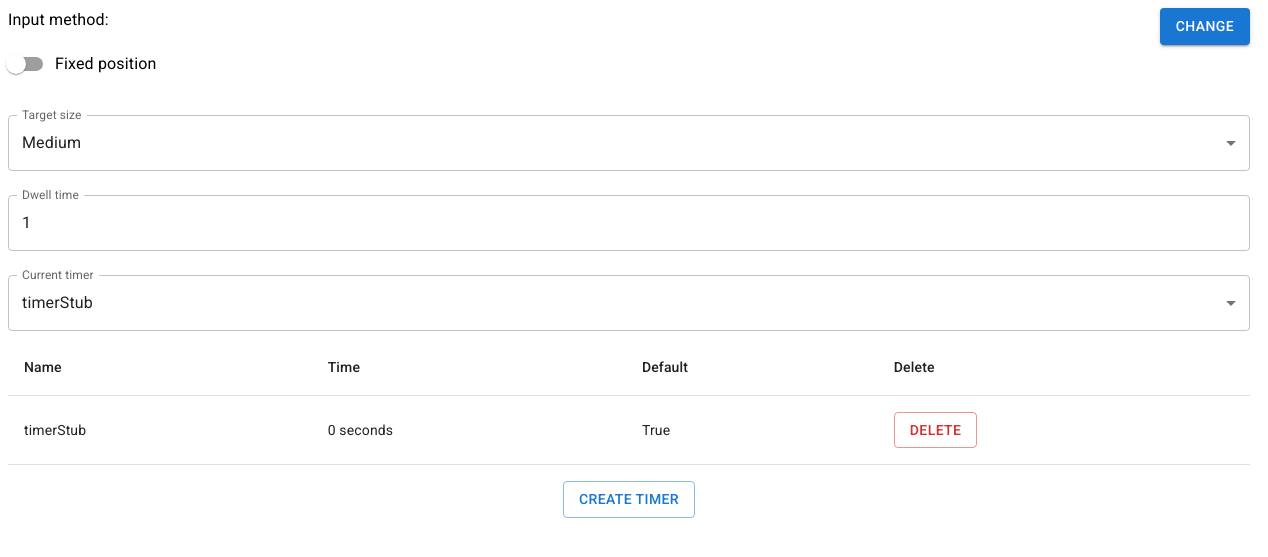
Scenario: <InputConfig /> › should render error for dwell time input
Replace the text in the number field labelled "Dwell time" with "-2" at [629, 222], box [8,194,1250,250]
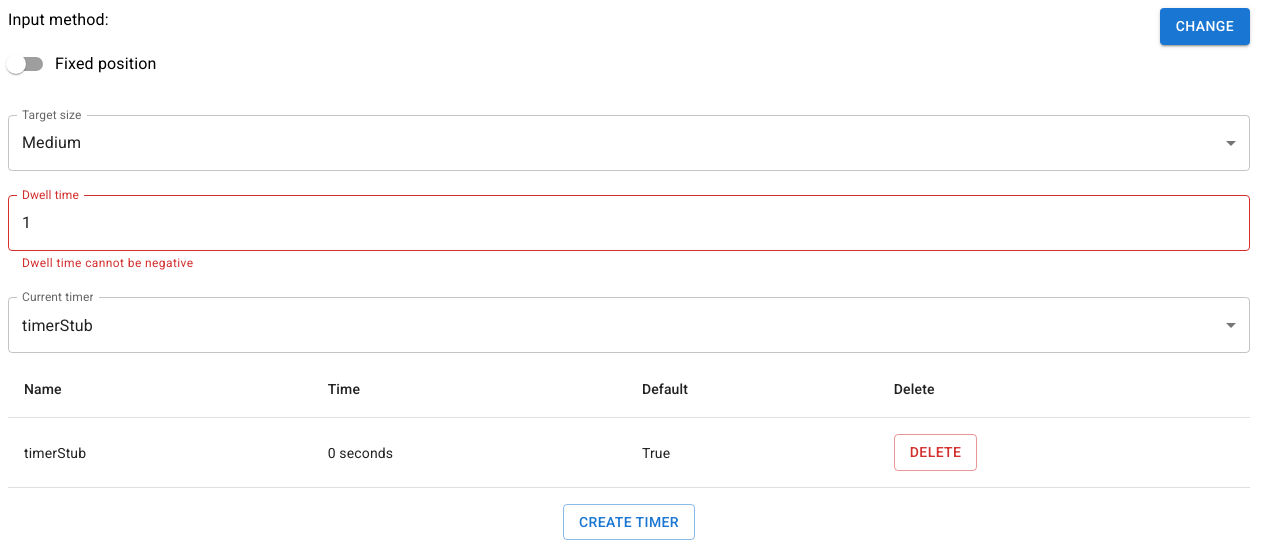
Expected: the text "Dwell time cannot be negative" is shown, [22,256,194,270]
